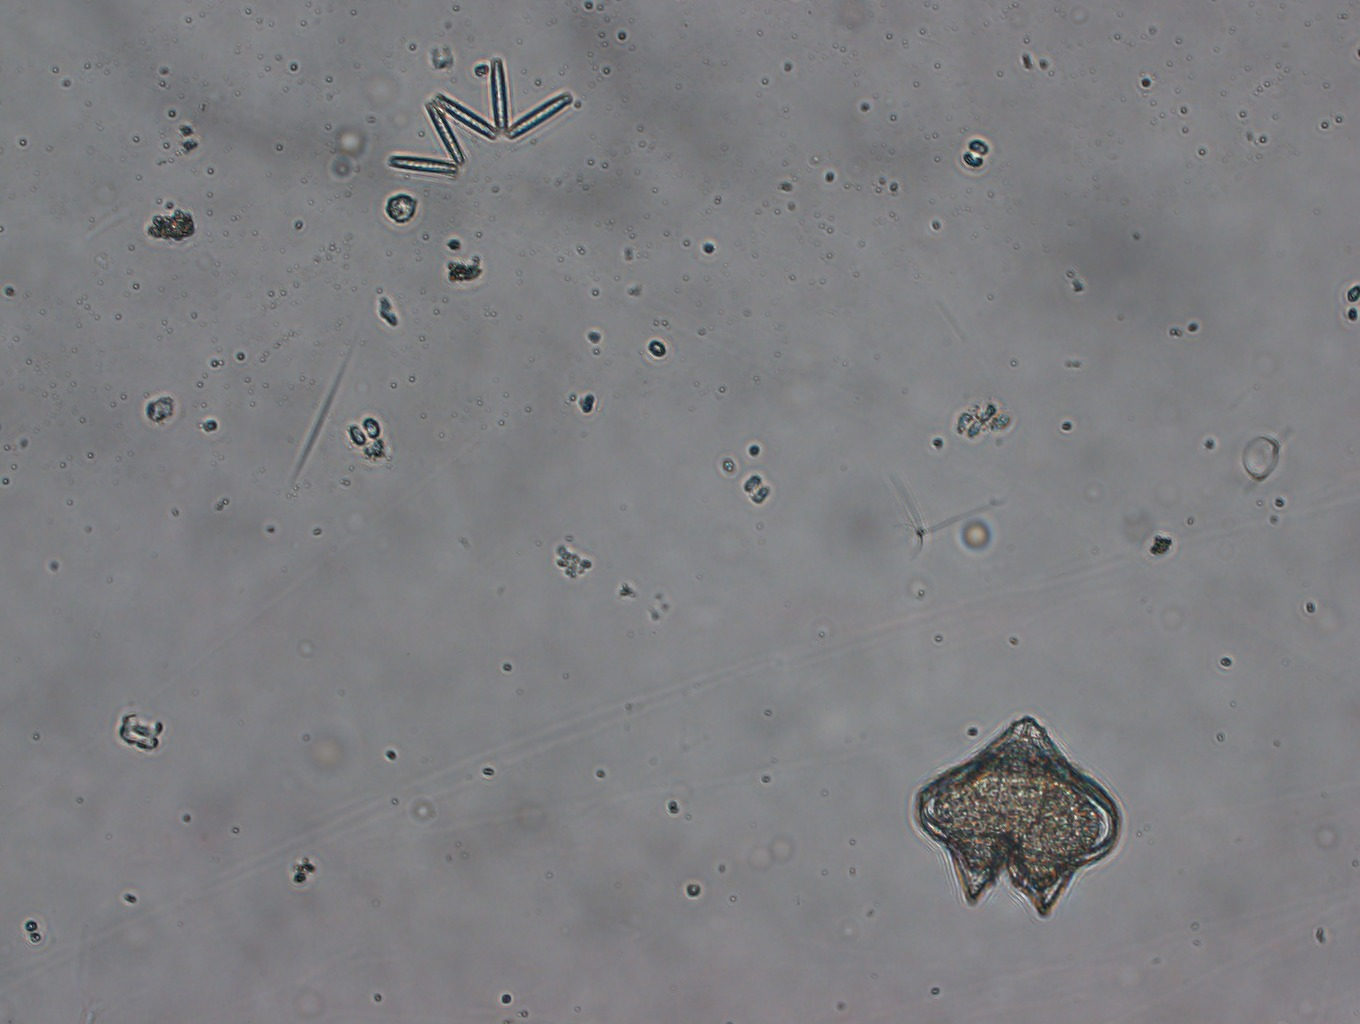protoperidinium: (912, 710, 1127, 926)
thalassionema nitzschioides: (385, 54, 578, 183)
